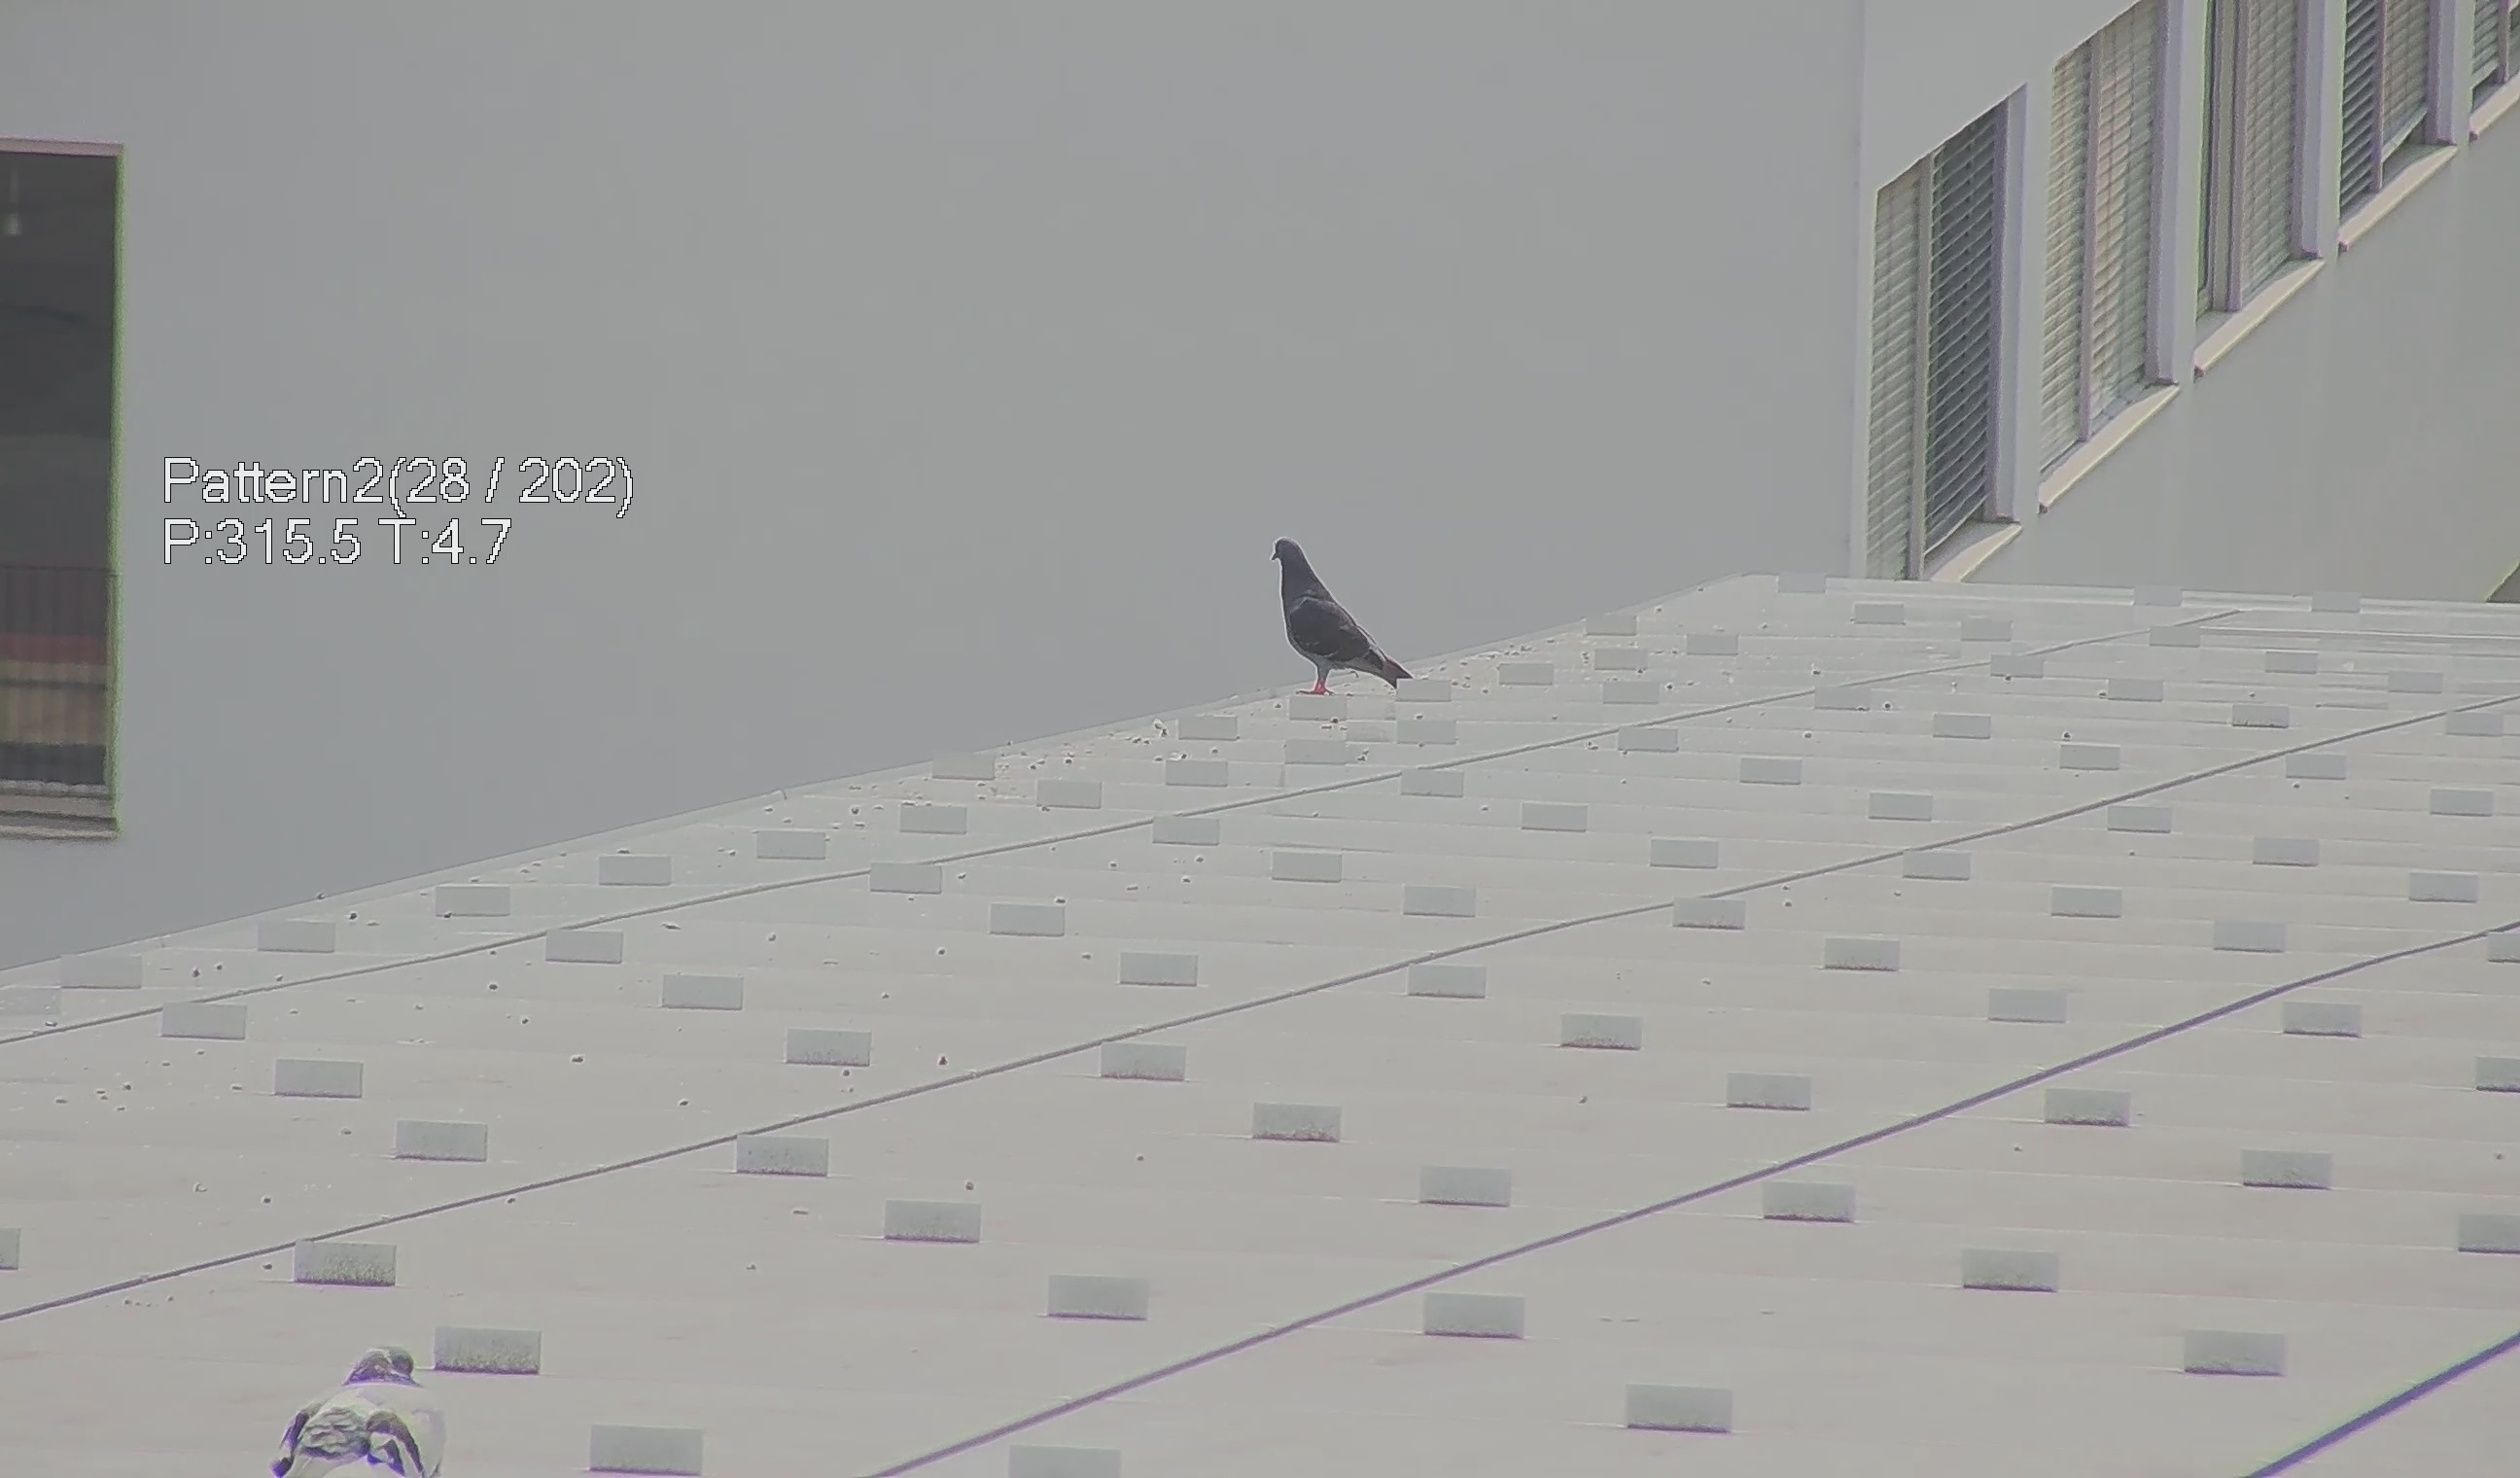Pigeon: (262, 1334, 484, 1478), (1263, 531, 1430, 706)
